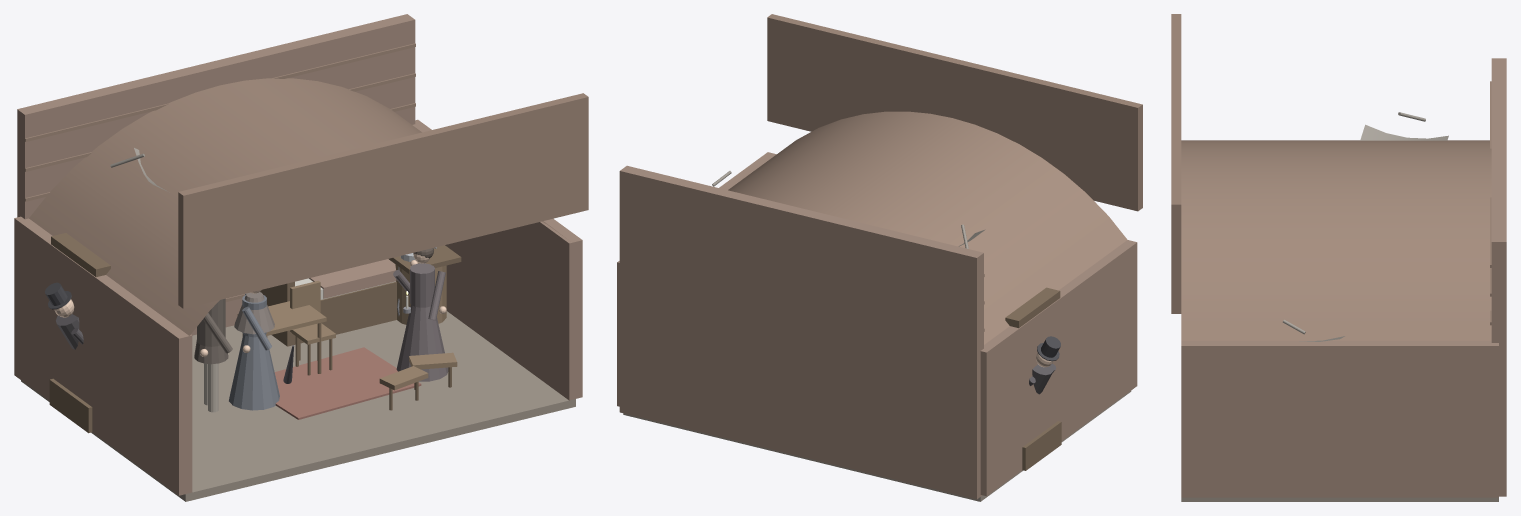
The model's file is scan-fig42-looking-for-lodgings-muse.glb.
3 views of the same model, side by side, from view 1: azimuth 30°, elevation 25°; view 2: azimuth 150°, elevation 25°; view 3: azimuth 270°, elevation 25° (orthographic). The views are drawn at different scales.
Parts seen in each view (by area): view 1: FrontHeader, Vault, Floor, WallL, BackWall, WallR, Rug, WomanUmb, Landlady, BedFrame, ManCloak, BedBlanket (+11 smaller); view 2: BackWall, Vault, FrontHeader, WallL, DoorStep, ManDoor, Floor, DoorFrameT, WallR; view 3: Vault, WallR, BackWall, FrontHeader, Floor, Hammock.
Boxes of the visible parts, left/top/right/bottom form: FrontHeader: left=178, top=93, right=588, bottom=308; Vault: left=29, top=78, right=566, bottom=335; Floor: left=21, top=311, right=575, bottom=501; WallL: left=14, top=216, right=192, bottom=495; BackWall: left=17, top=14, right=415, bottom=335; WallR: left=412, top=119, right=582, bottom=400; Rug: left=274, top=347, right=421, bottom=419; WomanUmb: left=229, top=290, right=279, bottom=410; Landlady: left=393, top=248, right=448, bottom=381; BedFrame: left=292, top=281, right=396, bottom=345; ManCloak: left=194, top=298, right=232, bottom=412; BedBlanket: left=309, top=259, right=396, bottom=298; BackWall: left=619, top=165, right=983, bottom=499; Vault: left=728, top=111, right=1127, bottom=344; FrontHeader: left=767, top=14, right=1142, bottom=211; WallL: left=980, top=240, right=1137, bottom=496; DoorStep: left=1022, top=421, right=1061, bottom=470; ManDoor: left=1029, top=336, right=1060, bottom=394; Floor: left=623, top=391, right=1131, bottom=501; DoorFrameT: left=1005, top=287, right=1060, bottom=328; WallR: left=617, top=152, right=776, bottom=406; Vault: left=1181, top=140, right=1491, bottom=340; WallR: left=1181, top=341, right=1498, bottom=497; BackWall: left=1491, top=58, right=1506, bottom=496; FrontHeader: left=1171, top=14, right=1181, bottom=313; Floor: left=1181, top=497, right=1498, bottom=501; Hammock: left=1299, top=124, right=1448, bottom=341.
Size of the model in its own units: 5.72 by 4.01 by 4.01.
